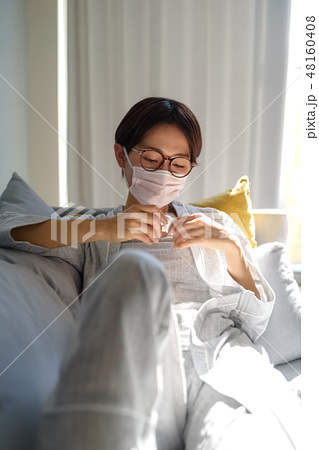mask: (129, 166, 195, 212)
